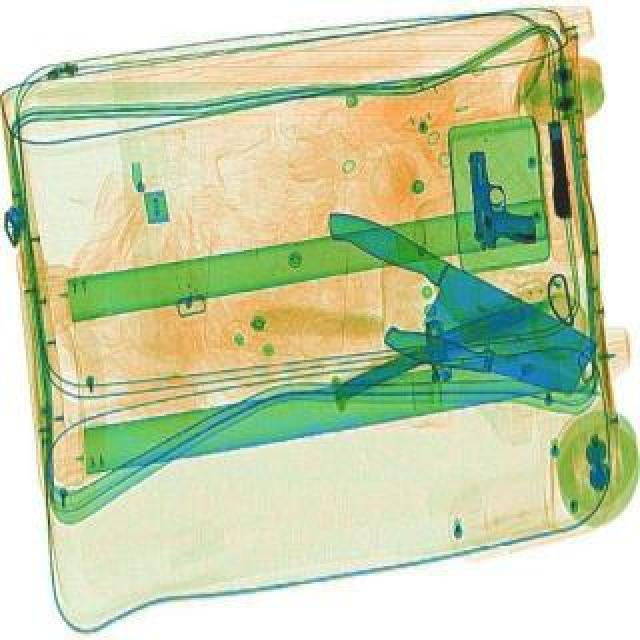gun: (472, 148, 538, 254), (548, 122, 574, 220)
knife: (298, 204, 610, 410), (334, 288, 562, 404), (382, 326, 606, 412)
